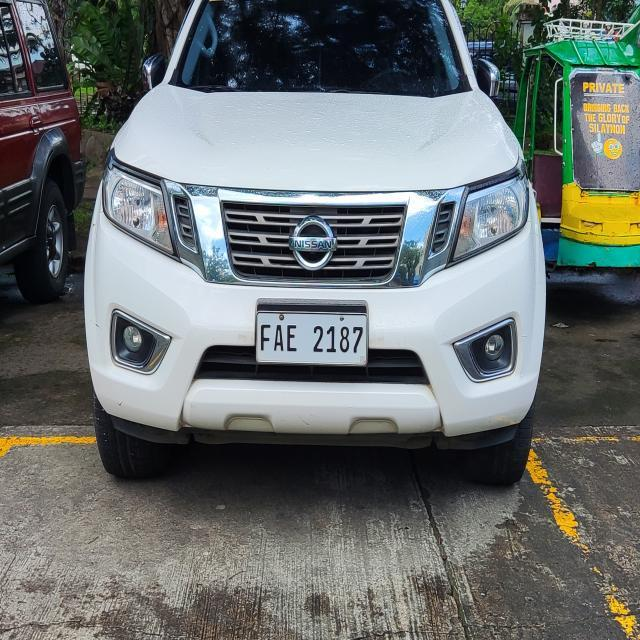LicensePlate: (252, 308, 371, 368)
